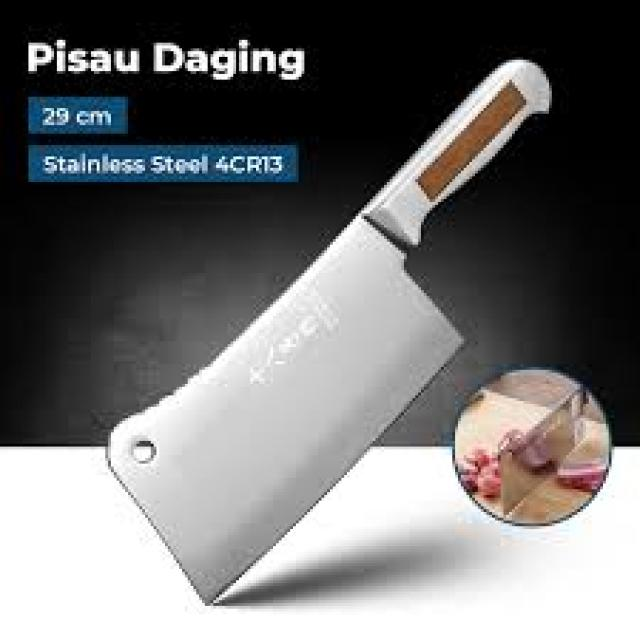Knife: (111, 60, 549, 600)
